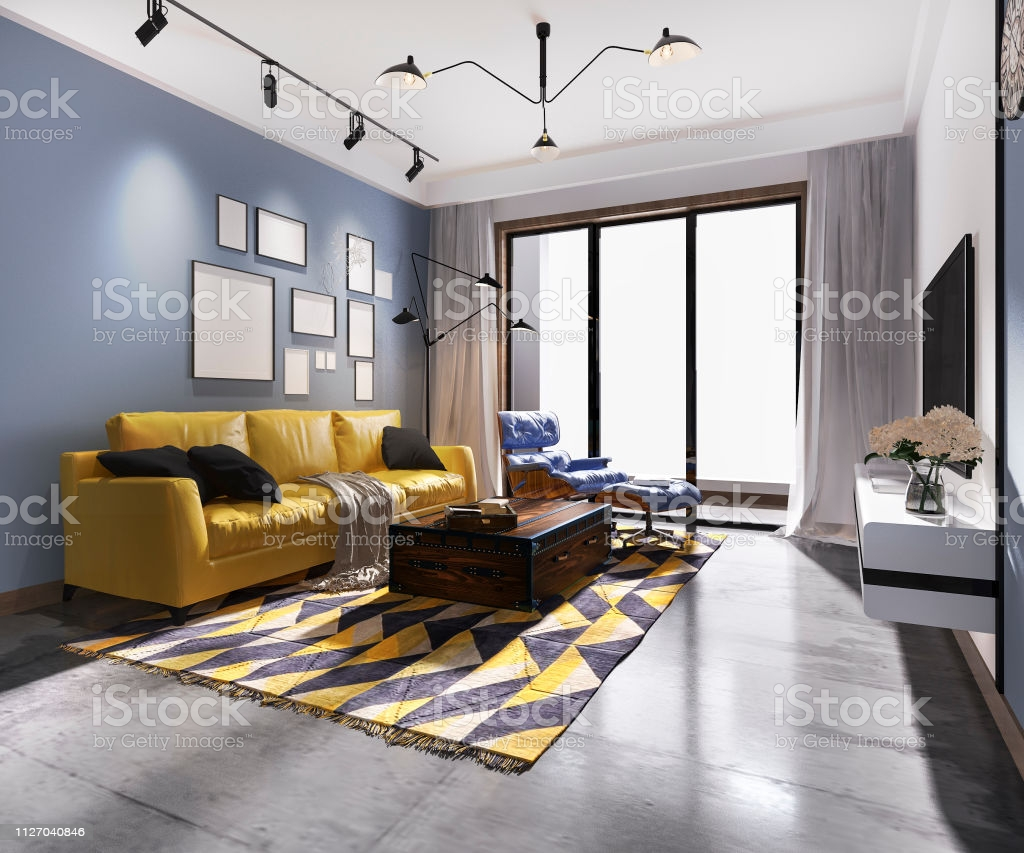coklat: (389, 500, 621, 602)
hitam: (922, 234, 975, 414), (106, 447, 275, 502), (378, 424, 443, 476)
kuning: (61, 411, 373, 571)
